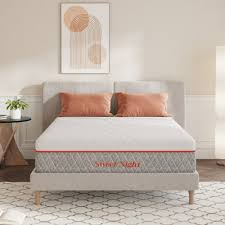bed-matress: (34, 115, 197, 173)
